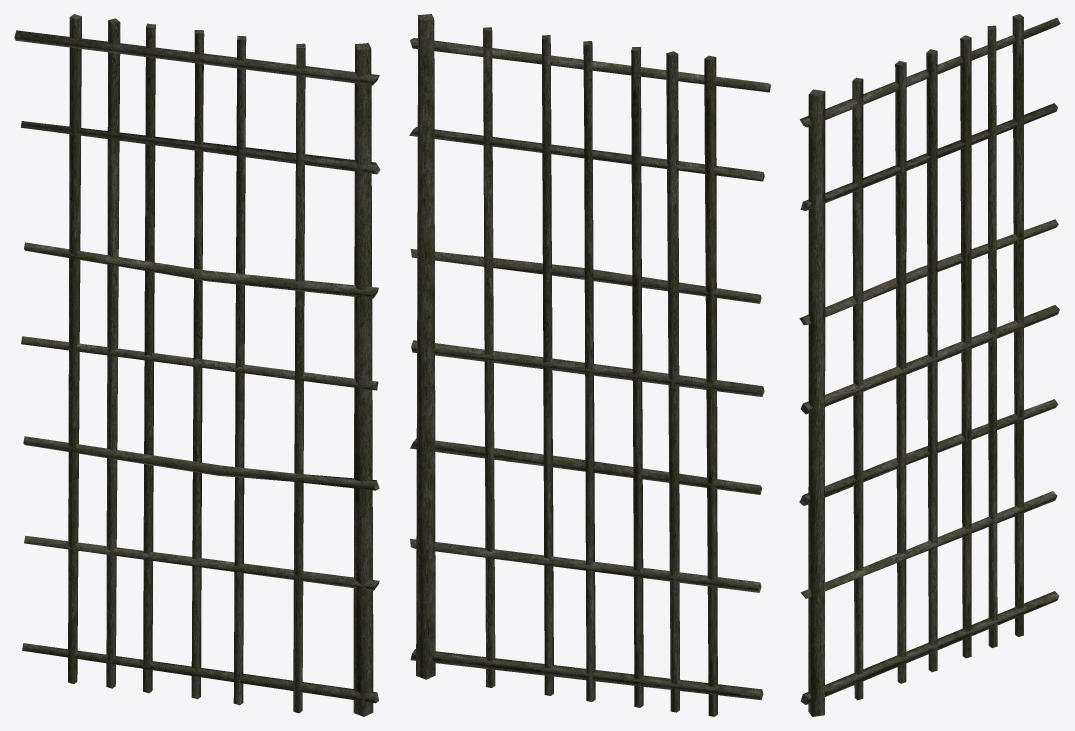
The model's file is TI_Roof_Frame_01.fbx.
3 renders of one model, left to right at view 1: azimuth 30°, elevation 25°; view 2: azimuth 210°, elevation 25°; view 3: azimuth 270°, elevation 25°, orthographic. The views are drawn at different scales.
Parts seen in each view (by area): view 1: TI_Roof_Frame_01; view 2: TI_Roof_Frame_01; view 3: TI_Roof_Frame_01.
Part boxes in pixels (bbox=[...]): TI_Roof_Frame_01: bbox=[14, 14, 380, 716]; TI_Roof_Frame_01: bbox=[409, 14, 770, 716]; TI_Roof_Frame_01: bbox=[799, 14, 1060, 716].
Size of the model in its own units: 3.6 by 9.9 by 3.75.
